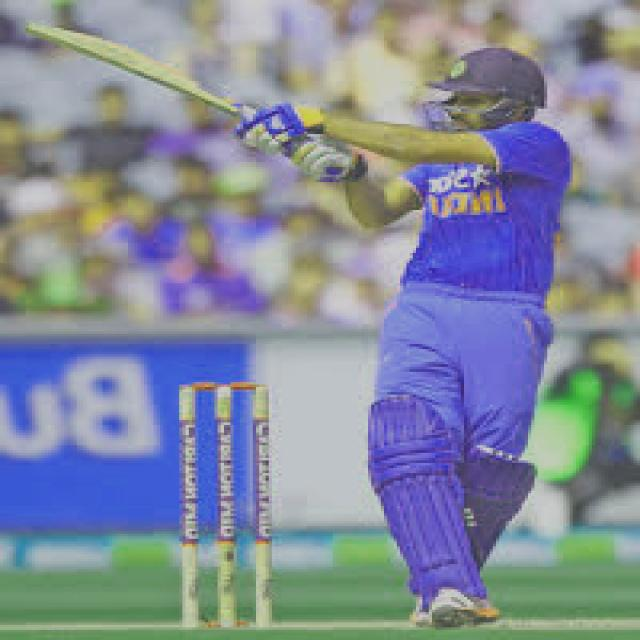toe: (9, 19, 51, 36)
